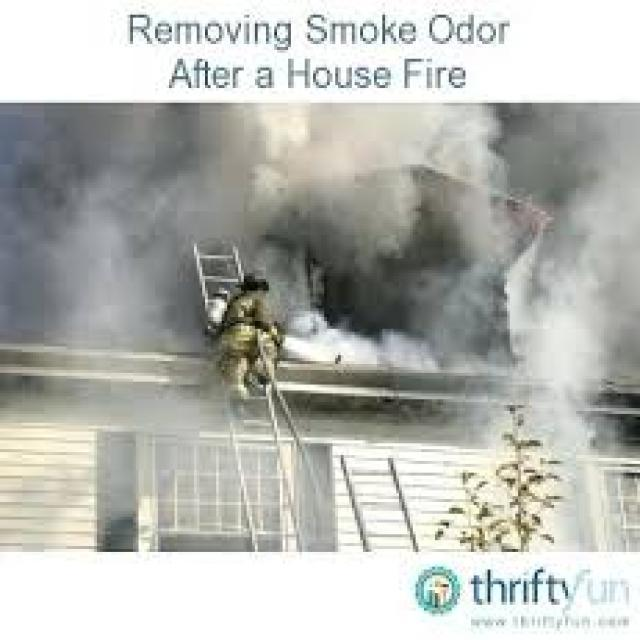Smoke: (0, 100, 640, 528)
